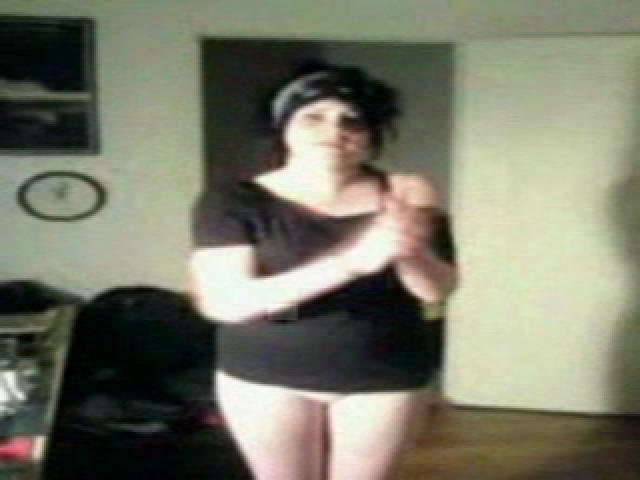F: (178, 60, 450, 480)
